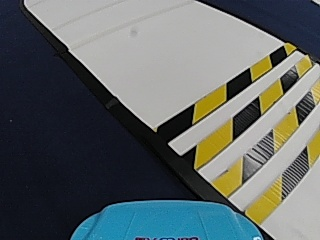bump: (176, 45, 320, 194)
